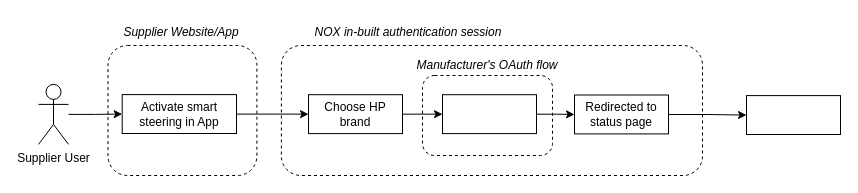
The diagram is 858 pixels wide and 193 high, and some of its shapes have lost their labels. The shapes that lost their labels are listed below. From the top down, each one's centre as x and y in pixels, then its label:
At point 489,114: "Connect and accept terms".
At point 793,114: "Redirected to supplier App".
